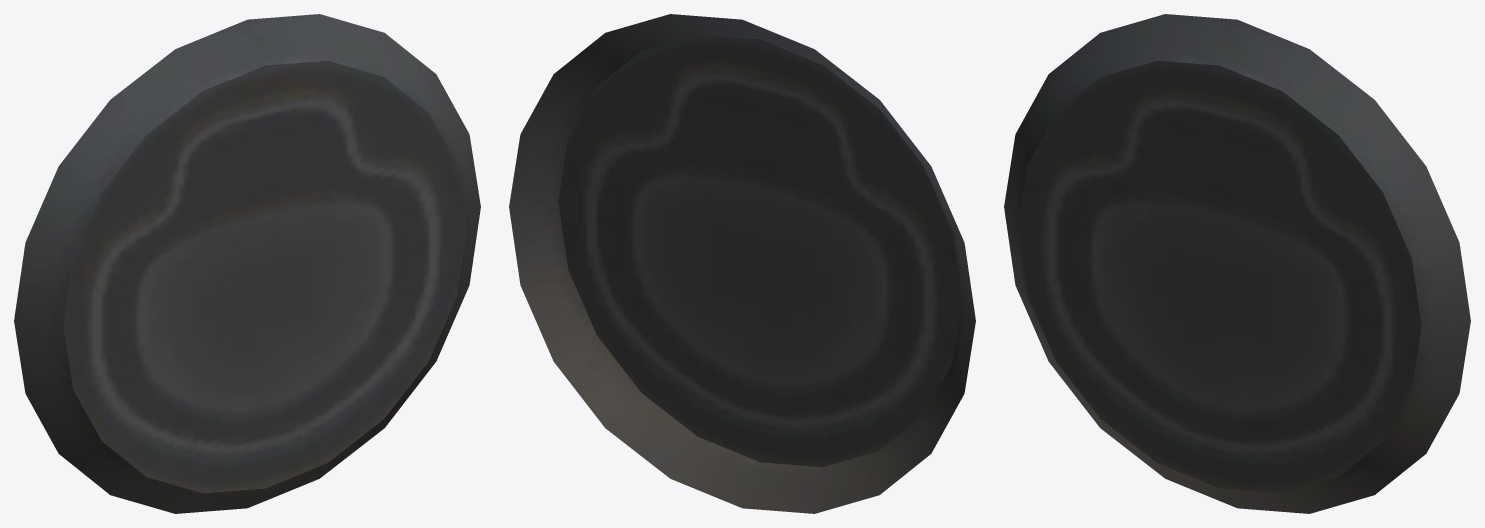
File: p6_metal_handle_flush_lod0.glb
The picture shows the model from 3 angles, left to right: view 1: azimuth 30°, elevation 25°; view 2: azimuth 150°, elevation 25°; view 3: azimuth 330°, elevation 25°; orthographic projection.
Parts seen in each view (by area): view 1: surf0; view 2: surf0; view 3: surf0.
Part boxes in pixels (bbox=[...]): surf0: bbox=[14, 14, 480, 513]; surf0: bbox=[509, 14, 975, 513]; surf0: bbox=[1004, 14, 1470, 513].
Size of the model in its own units: 3.24 by 3.24 by 0.2145.
